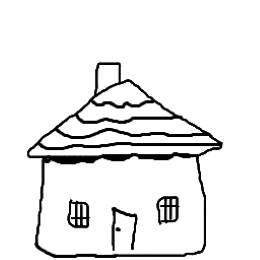bottom_placed_house: (2, 0, 260, 260)
chimney: (86, 48, 131, 109)
closed_window: (152, 189, 187, 226), (65, 197, 92, 232)
door: (106, 195, 147, 259)
roof: (12, 74, 234, 170)
wall: (31, 146, 213, 260)
